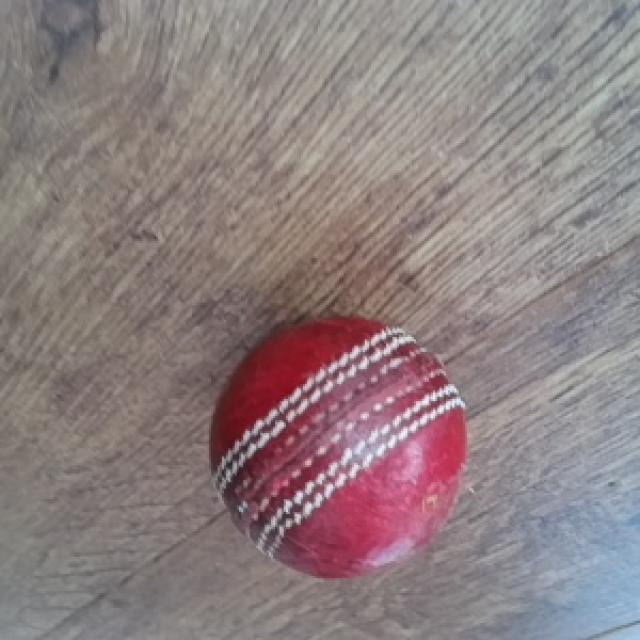ball: (215, 308, 471, 576)
